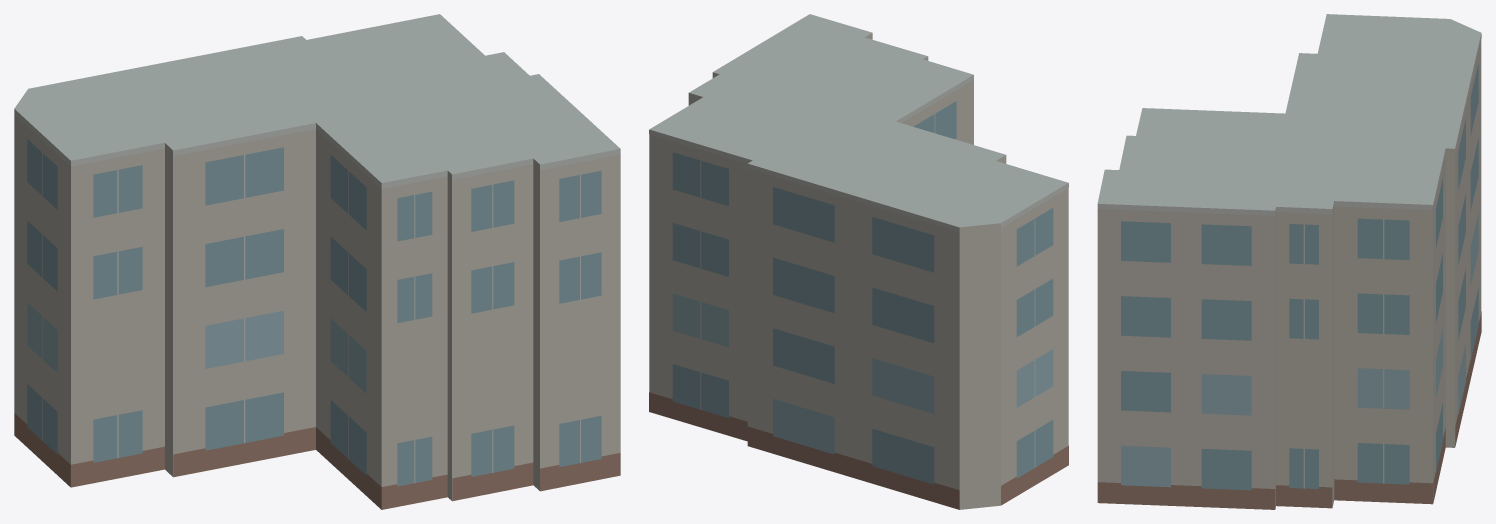
File: survey-upis-32608966.glb
3 views of the same model, side by side, from view 1: azimuth 30°, elevation 25°; view 2: azimuth 150°, elevation 25°; view 3: azimuth 270°, elevation 25° (orthographic). The views are drawn at different scales.
Visible parts, largest first — view 1: survey-upis-32608966.tmp; view 2: survey-upis-32608966.tmp; view 3: survey-upis-32608966.tmp.
Part boxes in pixels (x1,y1,x2,y2): survey-upis-32608966.tmp: (14, 14, 620, 509); survey-upis-32608966.tmp: (649, 14, 1068, 509); survey-upis-32608966.tmp: (1097, 14, 1481, 509).
Size of the model in its own units: 19.74 by 14 by 16.29.
